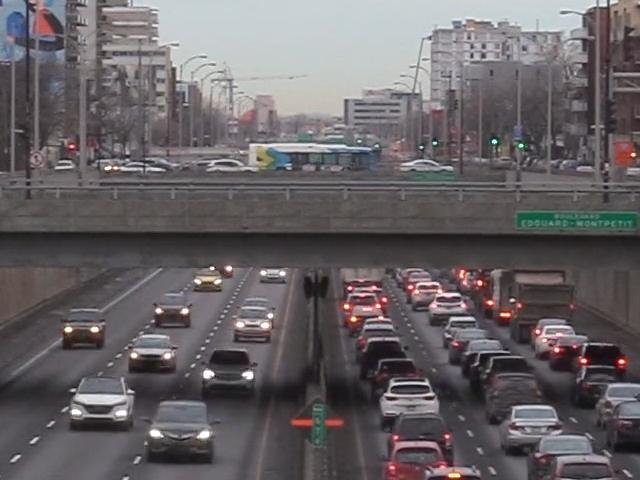car: (149, 397, 217, 459), (70, 375, 142, 431), (385, 412, 454, 468), (499, 403, 566, 456), (378, 379, 442, 429), (485, 375, 549, 424), (455, 338, 511, 391), (571, 340, 627, 388), (201, 348, 258, 394), (368, 355, 423, 401), (590, 382, 640, 431), (571, 366, 624, 411), (125, 332, 180, 374), (61, 307, 111, 352), (439, 316, 488, 359), (535, 324, 583, 364), (543, 456, 619, 480), (357, 318, 403, 357), (231, 309, 276, 343), (152, 294, 194, 328), (343, 289, 385, 322), (614, 402, 640, 453), (427, 296, 468, 326), (405, 281, 441, 310), (344, 276, 383, 299), (191, 268, 224, 291), (401, 267, 434, 290), (428, 280, 458, 304), (259, 267, 289, 285), (202, 262, 226, 278)
pickup-truck: (357, 338, 410, 385)
truck: (508, 271, 577, 344), (492, 267, 524, 328)
